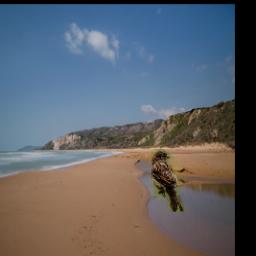Sparrow: (151, 150, 184, 213)
